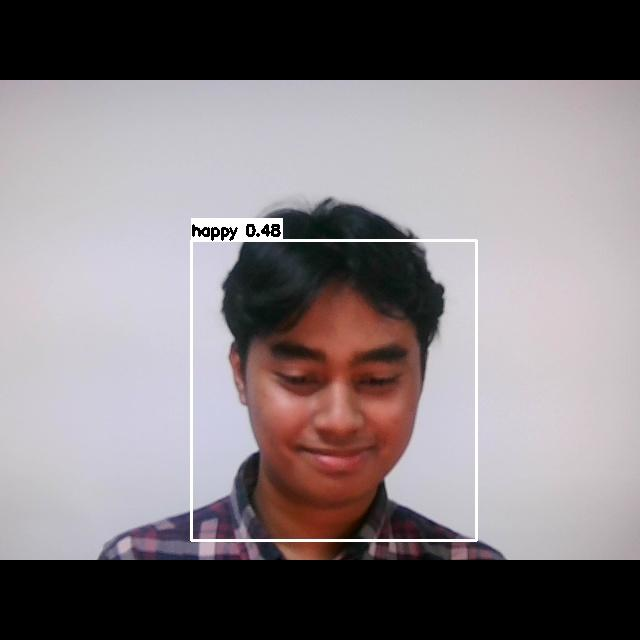Happy: (245, 314, 429, 486)
